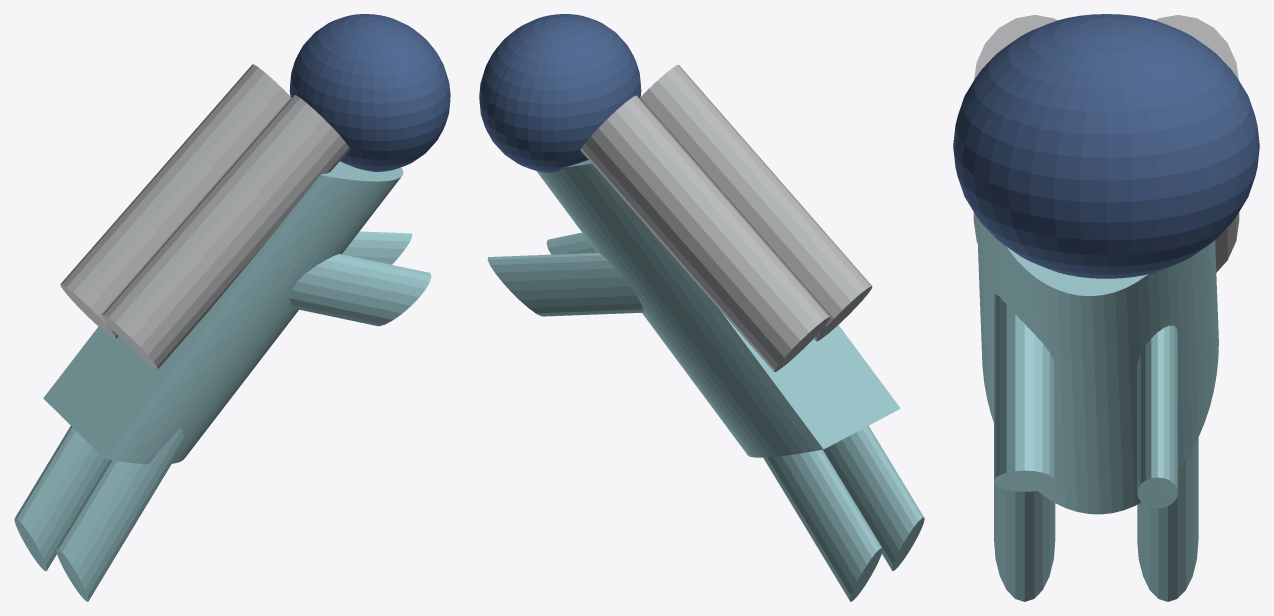
Rendered from diver.gltf.
3 renders of one model, left to right at view 1: azimuth 30°, elevation 25°; view 2: azimuth 150°, elevation 25°; view 3: azimuth 270°, elevation 25°, orthographic. The views are drawn at different scales.
Visible parts, largest first — view 1: Mesh_Mesh_head_geo.001_lambert2SG.001; view 2: Mesh_Mesh_head_geo.001_lambert2SG.001; view 3: Mesh_Mesh_head_geo.001_lambert2SG.001.
Boxes of the visible parts, x1,y1,x2,y2 form: Mesh_Mesh_head_geo.001_lambert2SG.001: (14,14,450,601); Mesh_Mesh_head_geo.001_lambert2SG.001: (479,14,924,601); Mesh_Mesh_head_geo.001_lambert2SG.001: (953,14,1259,601).
Bounding box in the file's own units: 39 × 45 × 15.
